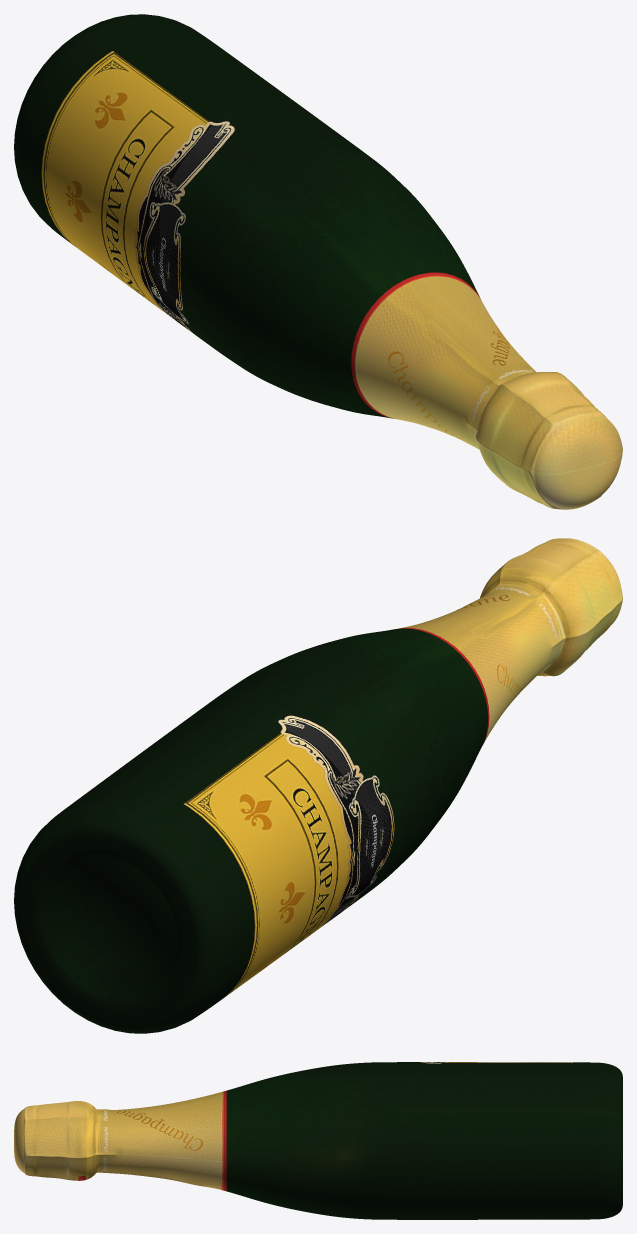
File: bottle cut.fbx
3 renders of one model, top to bottom at view 1: azimuth 30°, elevation 25°; view 2: azimuth 150°, elevation 25°; view 3: azimuth 270°, elevation 25°, orthographic. The views are drawn at different scales.
Visible parts, largest first — view 1: 12178_bottle_v1_L2.001, 12178_bottle_v1_L2.002; view 2: 12178_bottle_v1_L2.002, 12178_bottle_v1_L2.001; view 3: 12178_bottle_v1_L2.001, 12178_bottle_v1_L2.002.
Boxes of the visible parts, x1,y1,x2,y2 form: 12178_bottle_v1_L2.001: (125,94,622,509); 12178_bottle_v1_L2.002: (14,14,305,306); 12178_bottle_v1_L2.002: (14,724,339,1033); 12178_bottle_v1_L2.001: (159,538,622,935); 12178_bottle_v1_L2.001: (14,1062,465,1219); 12178_bottle_v1_L2.002: (465,1062,622,1219).
Size of the model in its own units: 693 by 693 by 2673.
